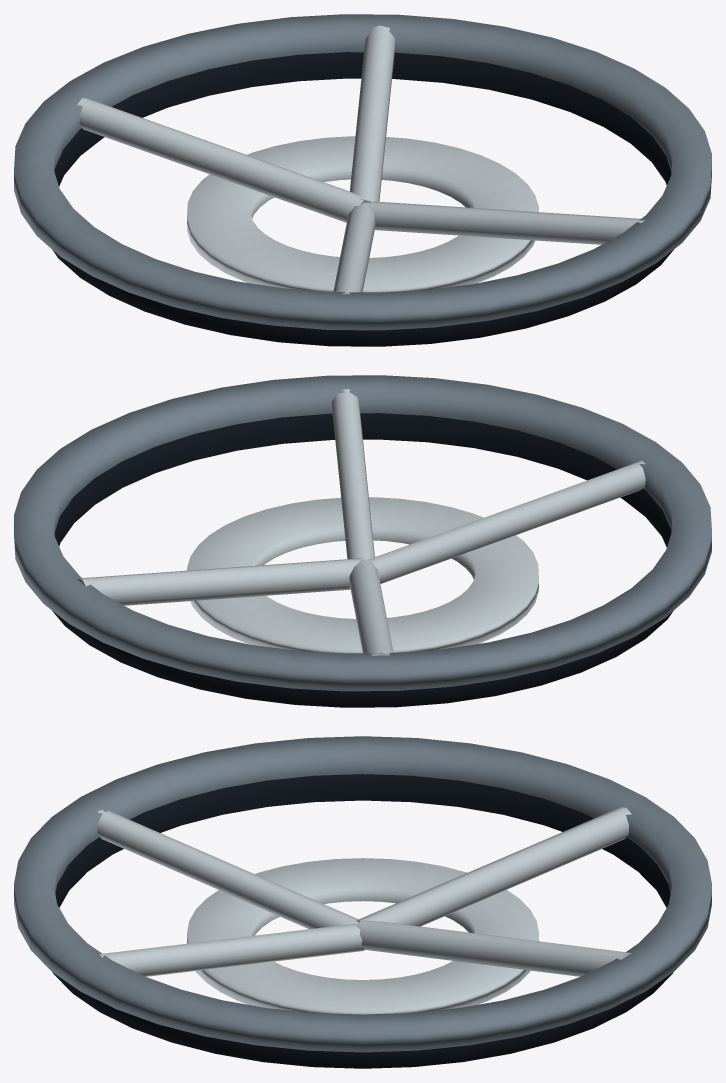
File: icps_engine_frame.glb
The picture shows the model from 3 angles, top to bottom: view 1: azimuth 30°, elevation 25°; view 2: azimuth 150°, elevation 25°; view 3: azimuth 270°, elevation 25°; orthographic projection.
Parts seen in each view (by area): view 1: icps_engine_frame.mesh_Machined_steel, icps_engine_frame.mesh_Satin_aluminum, icps_engine_frame.mesh_Shadowed_interior; view 2: icps_engine_frame.mesh_Machined_steel, icps_engine_frame.mesh_Satin_aluminum, icps_engine_frame.mesh_Shadowed_interior; view 3: icps_engine_frame.mesh_Machined_steel, icps_engine_frame.mesh_Satin_aluminum, icps_engine_frame.mesh_Shadowed_interior.
Part boxes in pixels (x1,y1,x2,y2): icps_engine_frame.mesh_Machined_steel: (14, 14, 711, 330); icps_engine_frame.mesh_Satin_aluminum: (77, 25, 644, 294); icps_engine_frame.mesh_Shadowed_interior: (52, 52, 673, 346); icps_engine_frame.mesh_Machined_steel: (14, 375, 711, 691); icps_engine_frame.mesh_Satin_aluminum: (77, 389, 645, 655); icps_engine_frame.mesh_Shadowed_interior: (52, 413, 673, 707); icps_engine_frame.mesh_Machined_steel: (14, 736, 711, 1052); icps_engine_frame.mesh_Satin_aluminum: (97, 807, 631, 1014); icps_engine_frame.mesh_Shadowed_interior: (52, 774, 673, 1068).
Bounding box in the file's own units: 5.06 × 0.5533 × 5.06.
